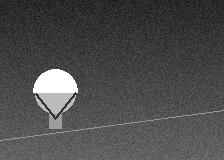helmet: (33, 69, 77, 118)
